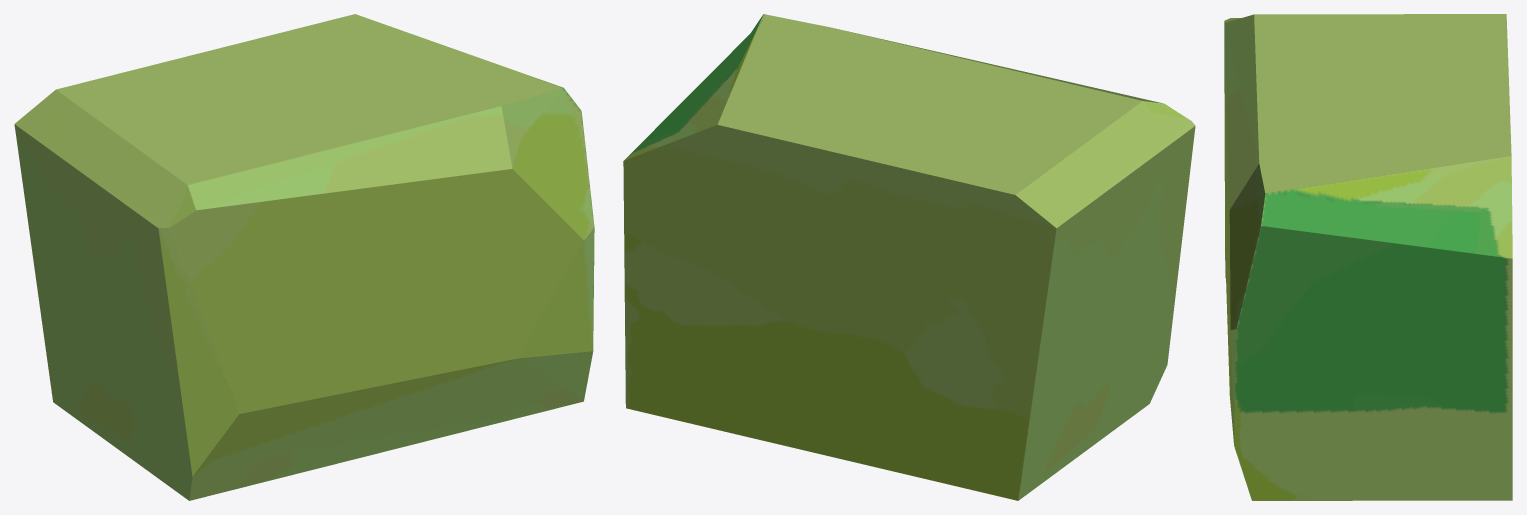
Rendered from rack01.fbx.
The picture shows the model from 3 angles, left to right: view 1: azimuth 30°, elevation 25°; view 2: azimuth 150°, elevation 25°; view 3: azimuth 270°, elevation 25°; orthographic projection. The views are drawn at different scales.
Parts seen in each view (by area): view 1: ROCK; view 2: ROCK; view 3: ROCK.
Boxes of the visible parts, left/top/right/bottom form: ROCK: left=14, top=14, right=594, bottom=500; ROCK: left=623, top=14, right=1195, bottom=500; ROCK: left=1224, top=14, right=1512, bottom=500.
Size of the model in its own units: 231 by 156 by 136.
1 material, 1 textured.
